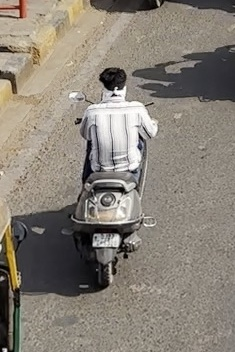BikeWithRider: (59, 62, 161, 291)
NoHelmet: (96, 64, 133, 101)
